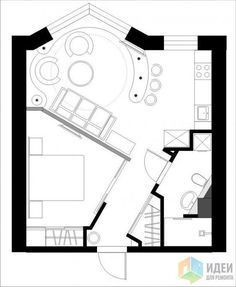door: (140, 143, 172, 185), (96, 246, 131, 282)
room: (11, 34, 163, 247), (166, 146, 219, 251), (164, 35, 211, 132), (9, 33, 28, 254)
wall: (208, 30, 229, 256), (10, 30, 30, 255), (127, 241, 231, 258), (9, 241, 96, 259), (129, 22, 165, 57), (153, 187, 169, 252), (196, 32, 231, 55), (188, 124, 227, 138), (88, 200, 106, 228), (161, 146, 198, 155), (80, 224, 91, 253), (187, 125, 195, 154)
window: (46, 1, 132, 50), (165, 28, 198, 59)
